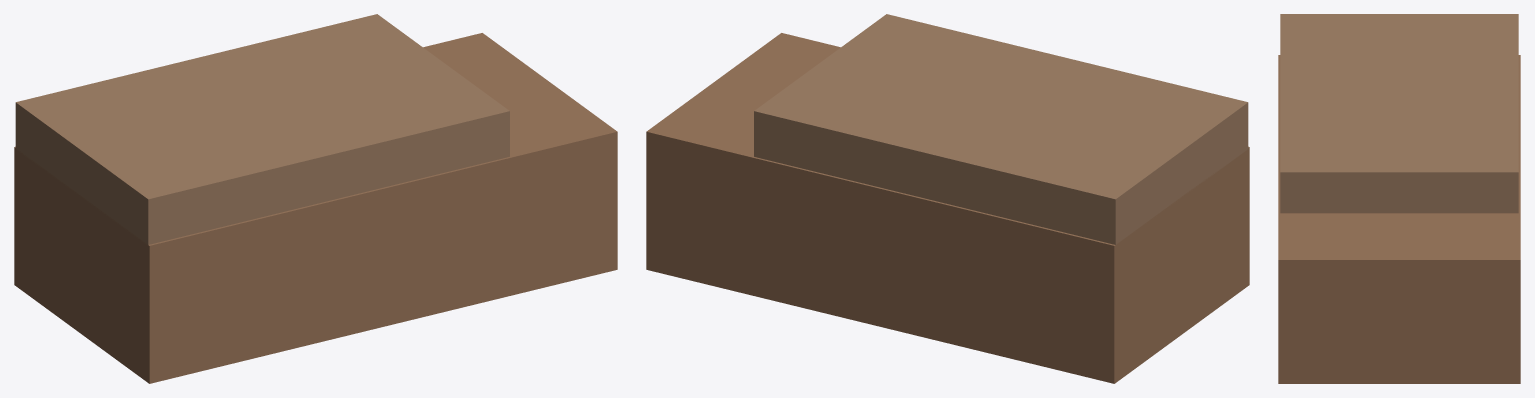
File: L-33_firebrick.glb
3 views of the same model, side by side, from view 1: azimuth 30°, elevation 25°; view 2: azimuth 150°, elevation 25°; view 3: azimuth 270°, elevation 25° (orthographic). The views are drawn at different scales.
Parts seen in each view (by area): view 1: L-33_firebrick; view 2: L-33_firebrick; view 3: L-33_firebrick.
Boxes of the visible parts, x1,y1,x2,y2 form: L-33_firebrick: (14,14,617,383); L-33_firebrick: (646,14,1249,383); L-33_firebrick: (1278,14,1520,383).
Size of the model in its own units: 0.22 by 0.0825 by 0.11.
